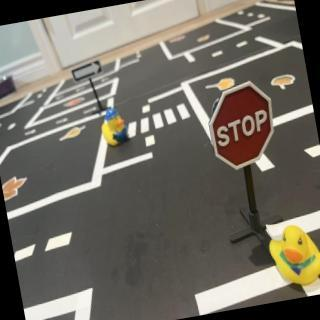duck_regular: (267, 222, 320, 291)
duck_specialty: (100, 108, 131, 149)
road_crosswalk: (125, 100, 197, 142)
road_oneway: (83, 107, 101, 117), (25, 129, 41, 139), (57, 118, 73, 127)
sign_oneway_right: (68, 55, 107, 86)
sign_stop: (204, 80, 284, 176)
